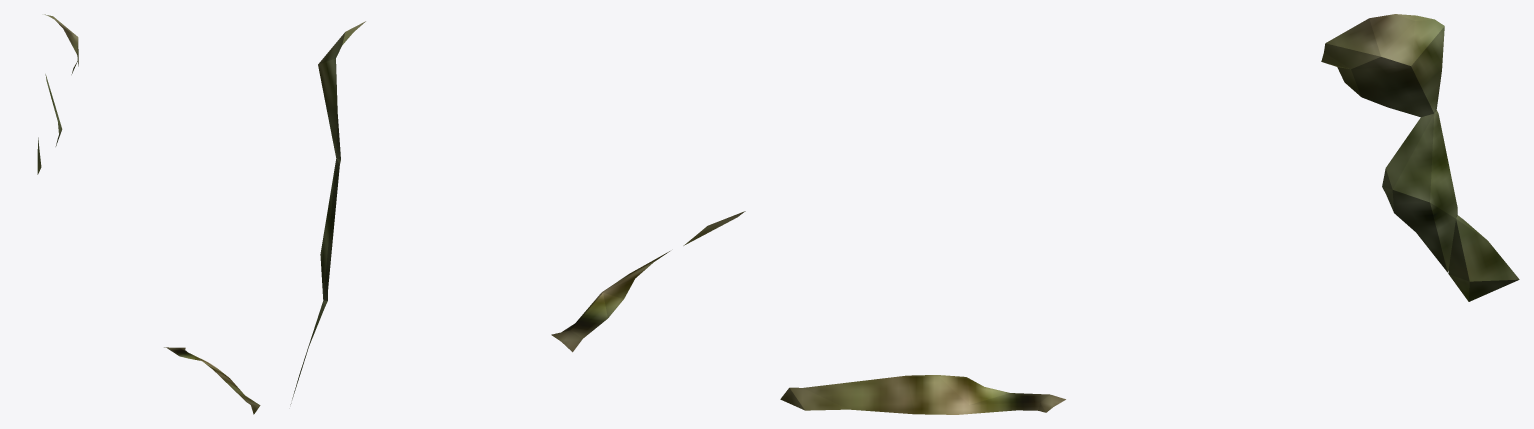
3 renders of one model, left to right at view 1: azimuth 30°, elevation 25°; view 2: azimuth 150°, elevation 25°; view 3: azimuth 270°, elevation 25°, orthographic. The views are drawn at different scales.
Bounding box in the file's own units: 0.0394 × 0.4549 × 0.791.
1 material, 1 textured.
